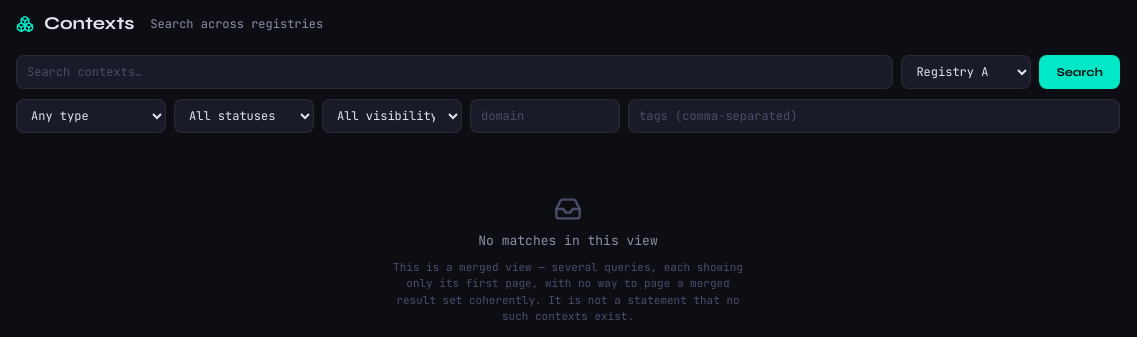
Scenario: /contexts — a MERGED response is exempt from the flat empty state › DISCRIMINATES: an unmerged query restores the flat empty state
This screenshot has width=1137, height=337.
Check: the text "No matches in this view" is shown, box top-left (478, 231), bottom-right (658, 250)
Select "analysis" in the dropdown named "Filter by type": (91, 116) top-left (16, 99), bottom-right (166, 133)
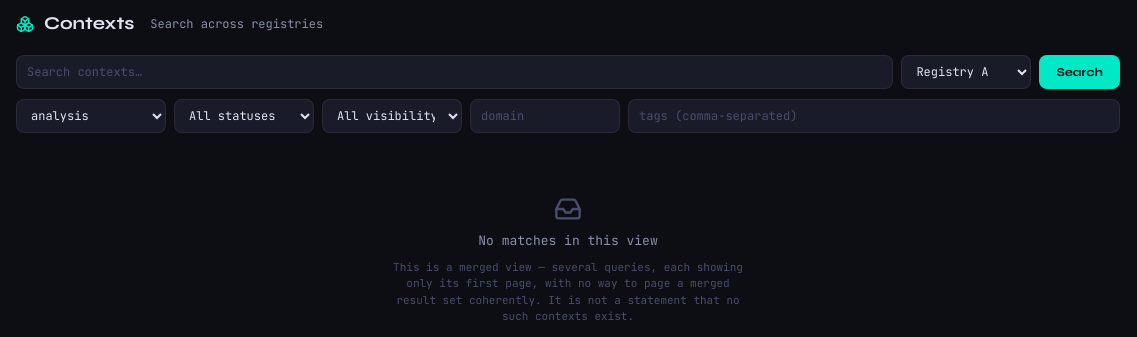
Click the button "Search": (1080, 72) top-left (1039, 55), bottom-right (1120, 89)
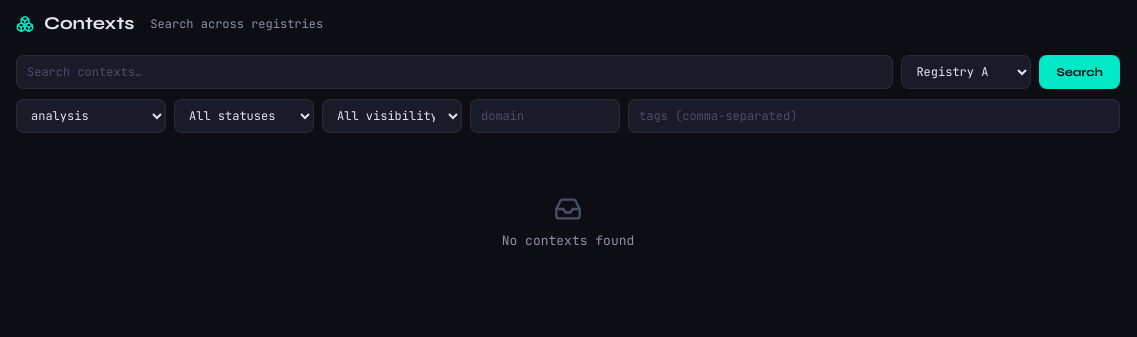
Check: the text "No contexts found" is shown, box top-left (502, 231), bottom-right (634, 250)
Check: the text "No matches in this view" is gone
